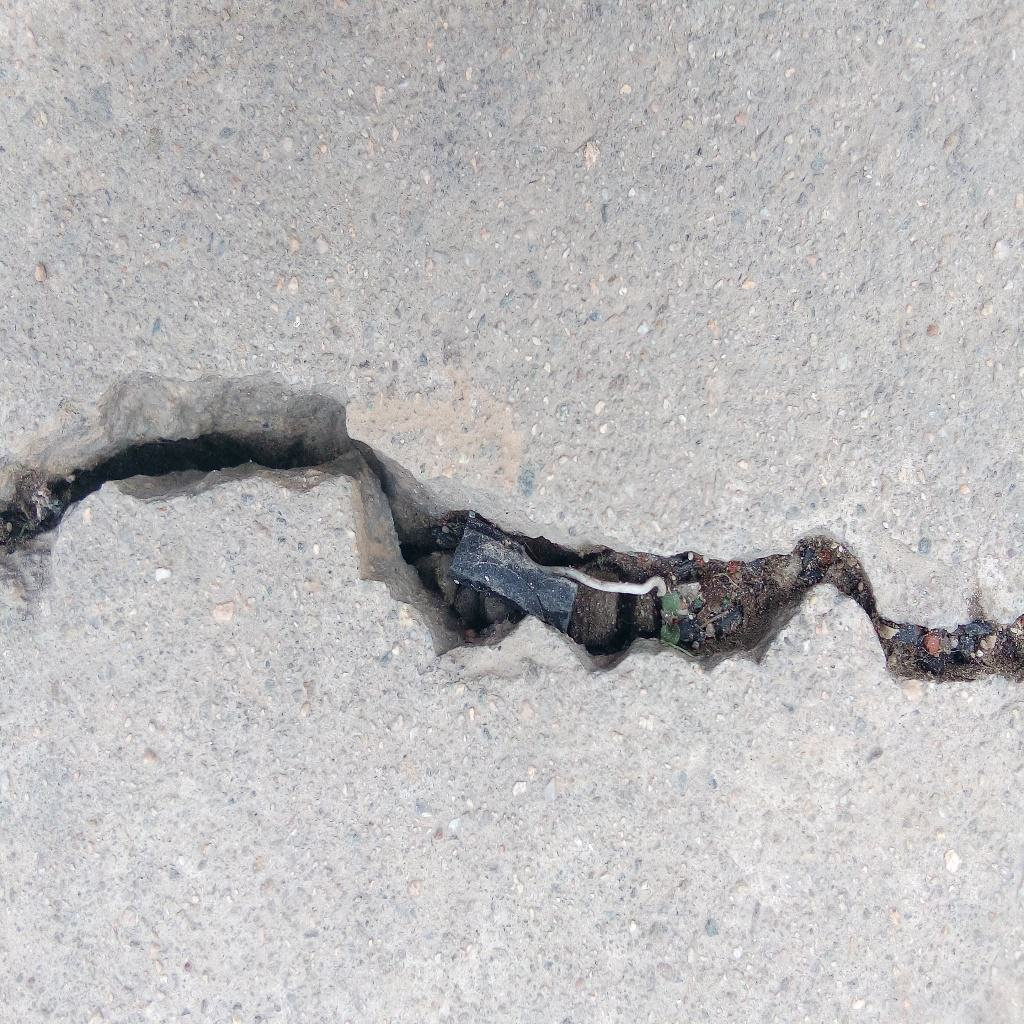Crack: (1, 422, 1024, 685)
